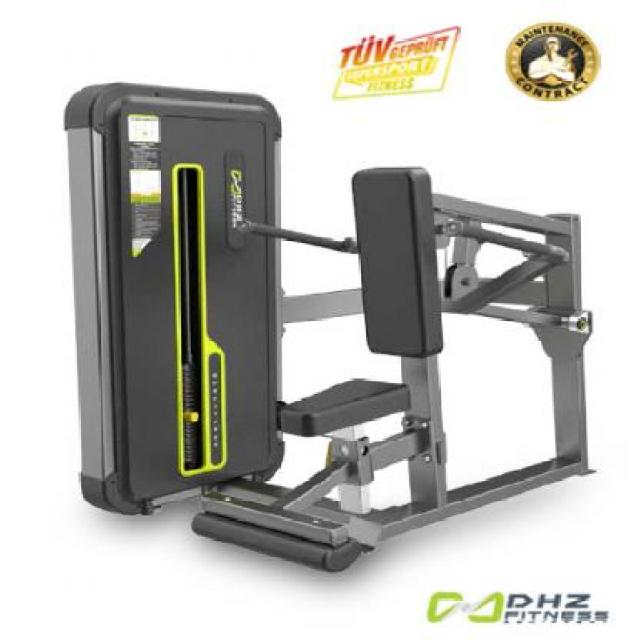seated dip machine: (63, 112, 605, 574)
